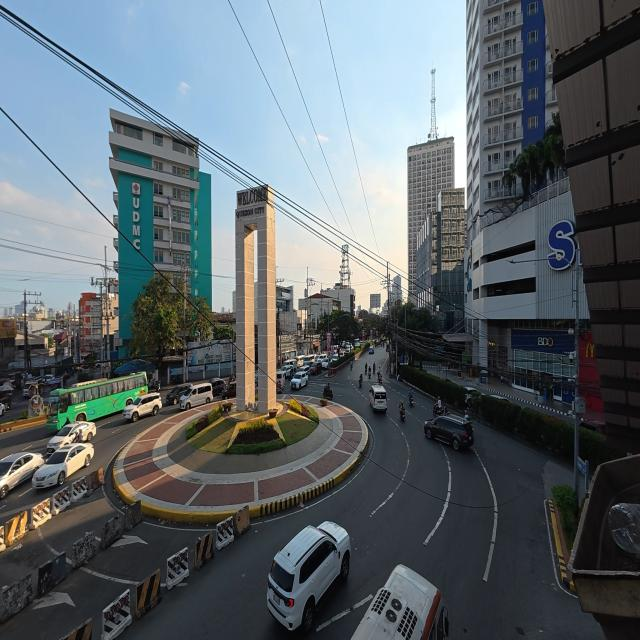bus: (352, 565, 449, 639), (46, 373, 147, 430)
car: (267, 522, 350, 632), (351, 565, 449, 639), (32, 443, 94, 489), (0, 452, 44, 499), (425, 415, 473, 450), (47, 422, 96, 454), (123, 393, 161, 422), (166, 384, 190, 405), (580, 420, 605, 434), (290, 371, 308, 389), (221, 381, 236, 399), (210, 378, 225, 396), (23, 383, 37, 398), (0, 393, 12, 409), (490, 394, 510, 403), (310, 362, 322, 374), (282, 365, 293, 378), (464, 386, 481, 394), (299, 365, 310, 377), (321, 358, 329, 368), (254, 370, 259, 386), (0, 403, 6, 415), (332, 354, 339, 362), (369, 346, 374, 354), (340, 351, 345, 357)
motorcycle: (434, 404, 448, 416), (148, 380, 160, 392), (324, 388, 333, 399), (400, 406, 405, 421), (277, 380, 282, 393), (409, 396, 414, 407), (378, 373, 382, 383), (359, 376, 362, 387), (368, 370, 371, 378), (373, 364, 375, 373), (350, 362, 352, 370)
vans: (180, 382, 212, 409), (370, 385, 387, 411), (283, 360, 297, 374), (276, 370, 286, 384), (304, 355, 315, 366), (297, 356, 304, 368)
